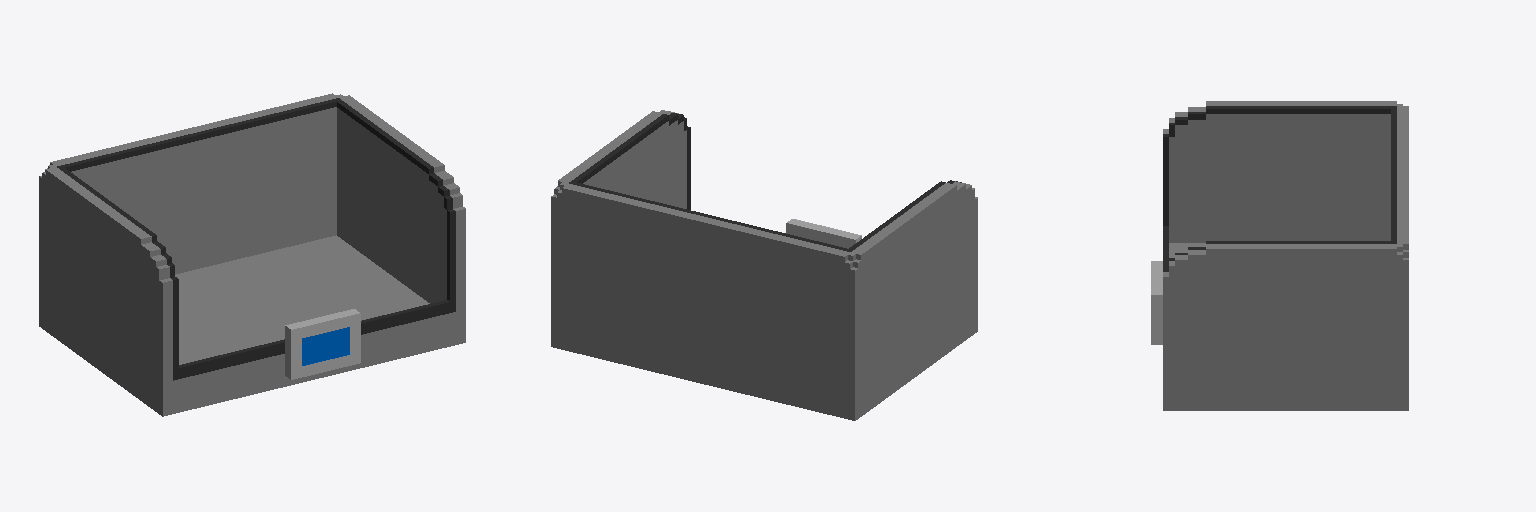
The picture shows the model from 3 angles: view 1: azimuth 30°, elevation 25°; view 2: azimuth 150°, elevation 25°; view 3: azimuth 270°, elevation 25°; orthographic projection.
Parts seen in each view (by area): view 1: PrinterBody; view 2: PrinterBody; view 3: PrinterBody.
Boxes of the visible parts, <box> form: PrinterBody: <box>39,93,465,416</box>; PrinterBody: <box>551,110,977,420</box>; PrinterBody: <box>1151,101,1408,410</box>.
Bounding box in the file's own units: 57 × 29 × 42.
Materials: 1 (1 with a texture image).